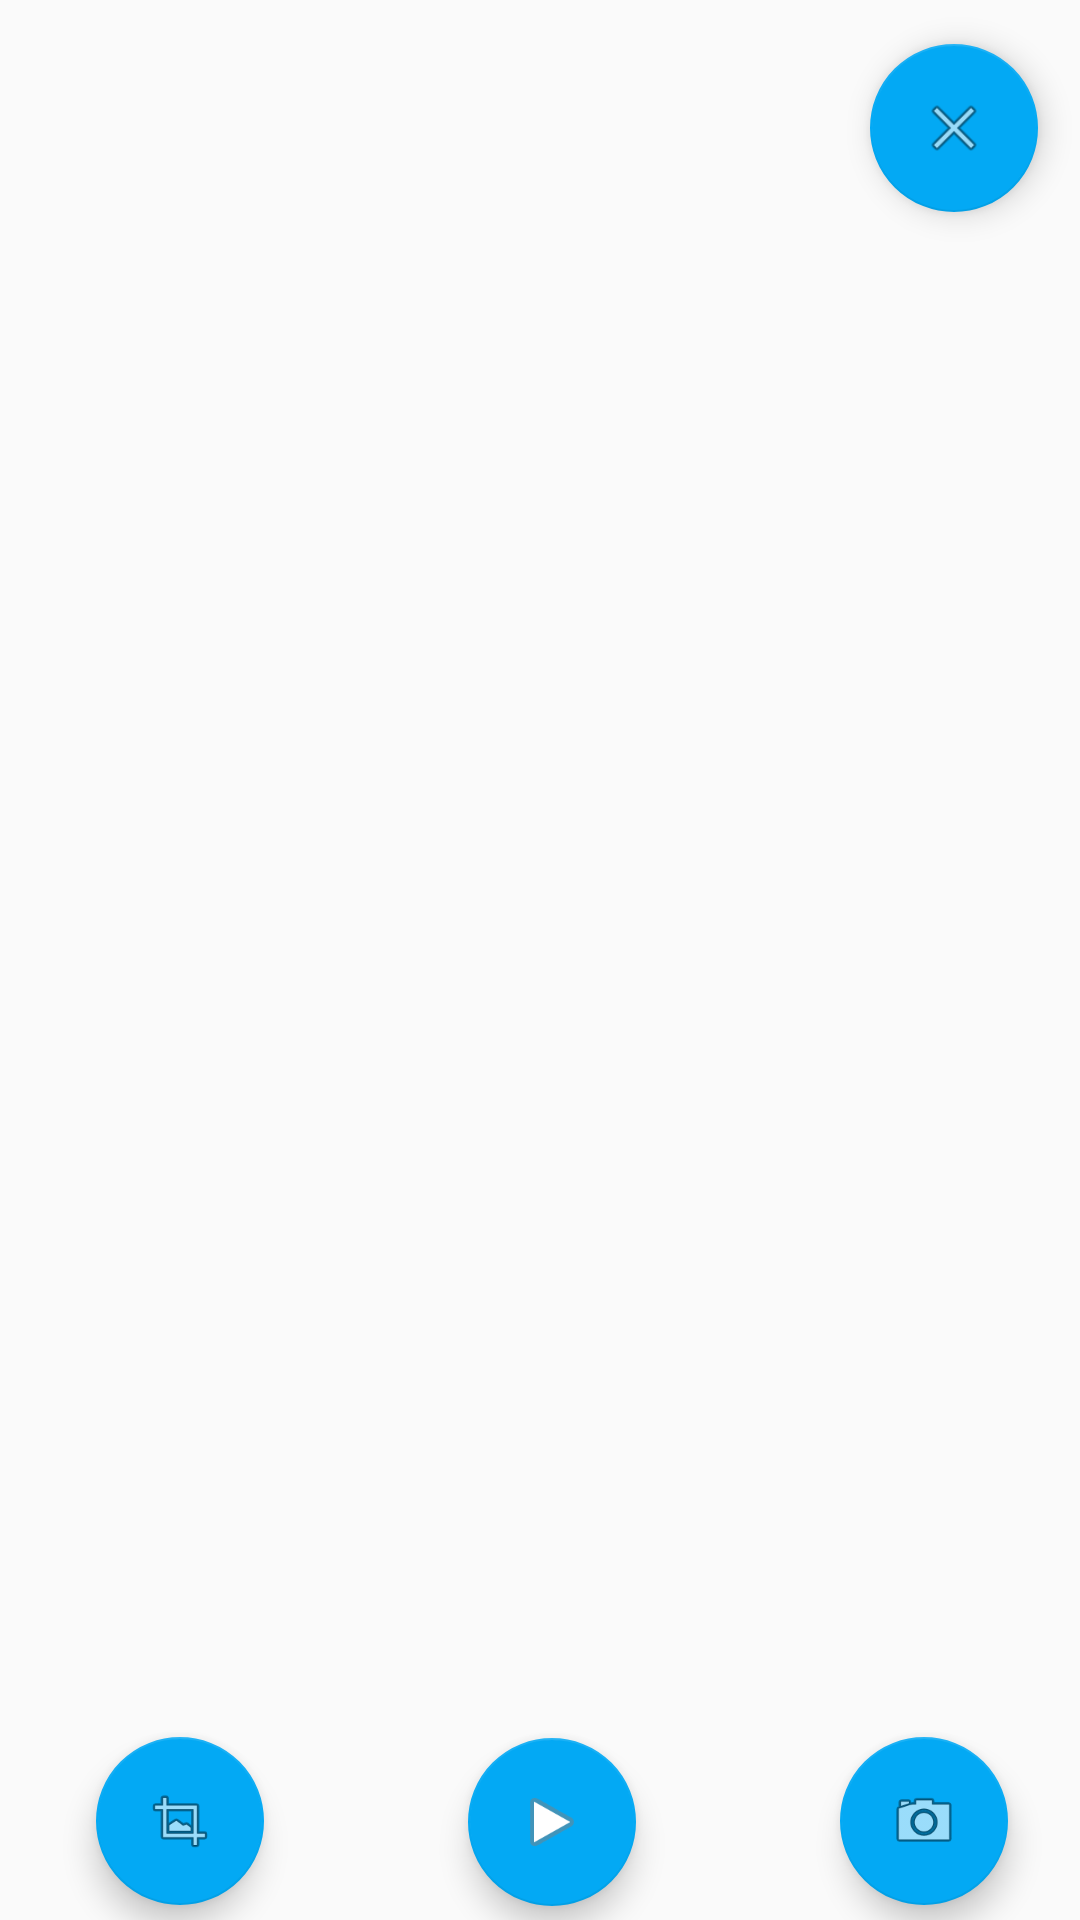

Icon click points for this 1080x1920 phone screenshot, format (x,y):
camera: (924,1821)
close clear cancel: (954,128)
crop: (180,1821)
play: (552,1822)
